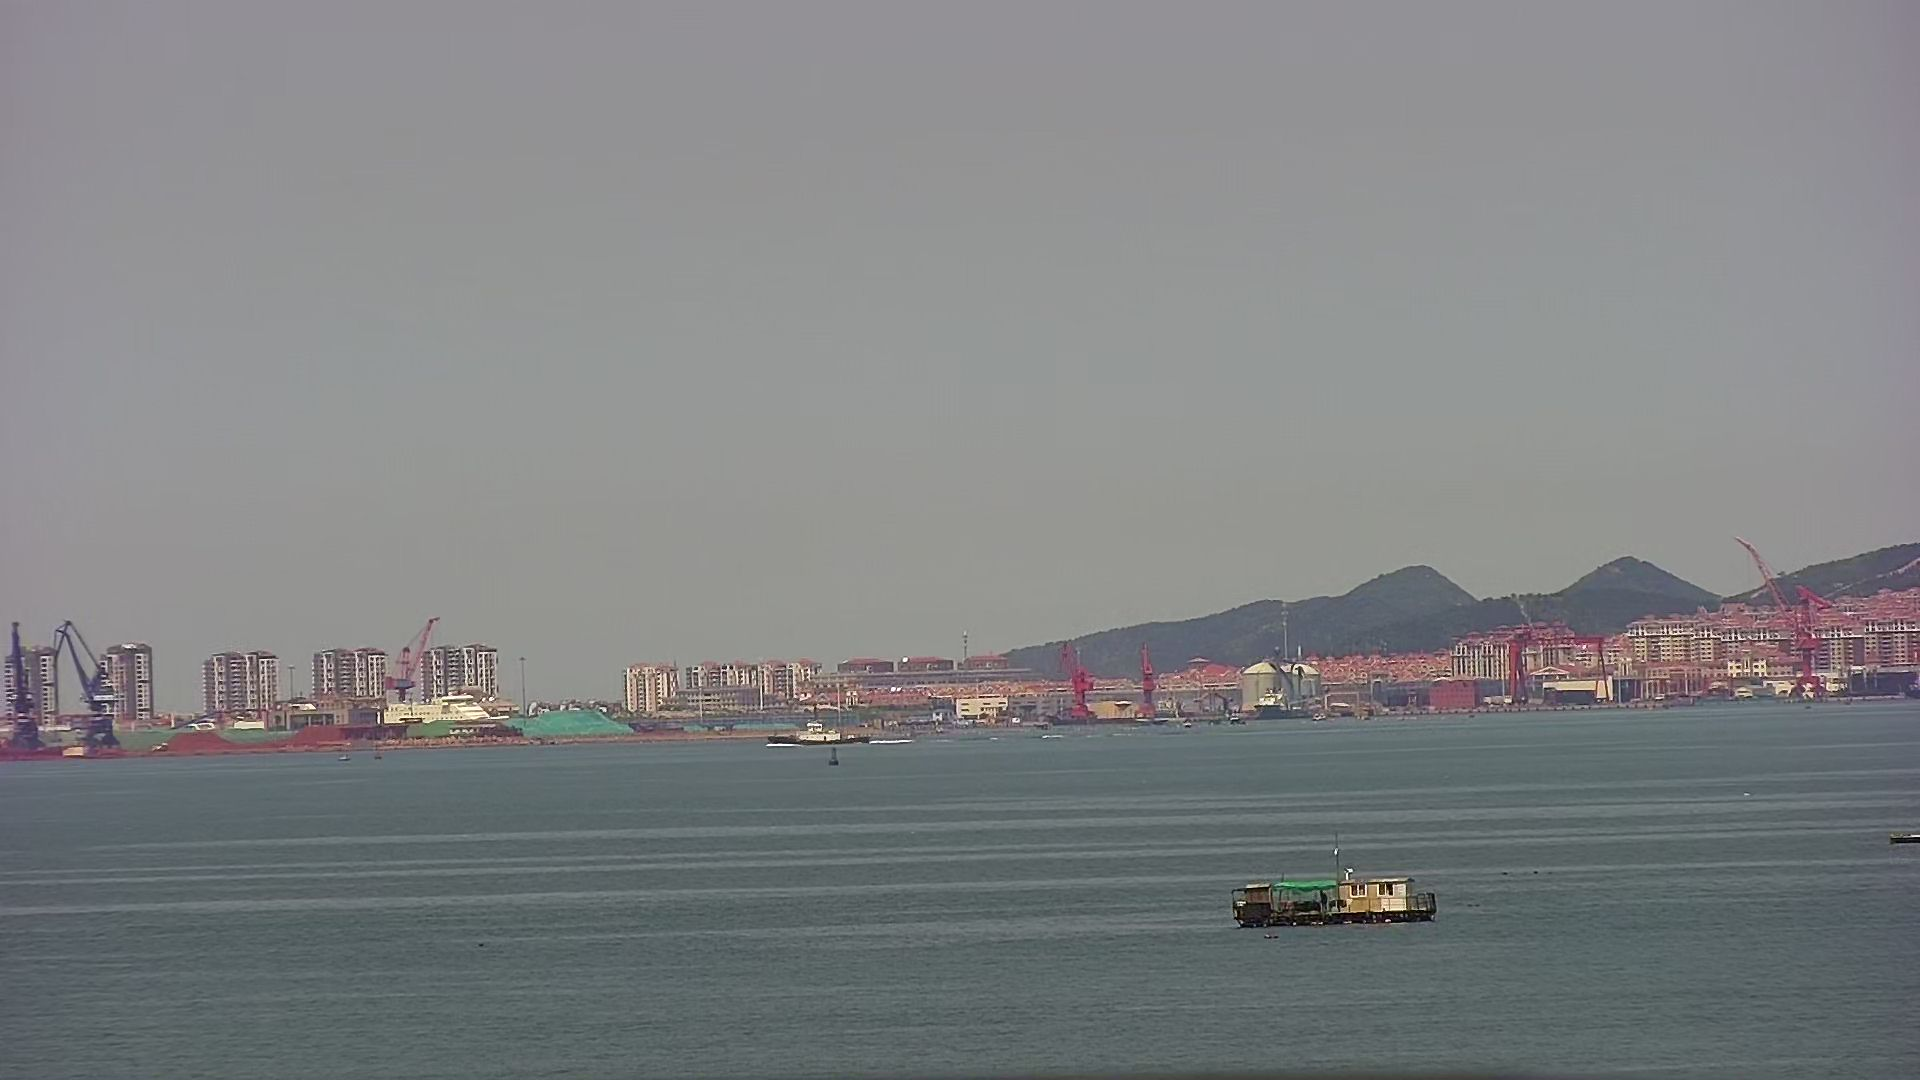platform: (1232, 832, 1443, 932)
